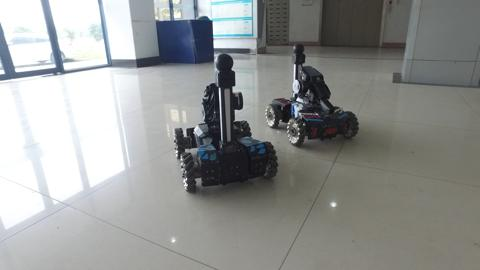chariot: (161, 50, 281, 190), (265, 44, 358, 157)
